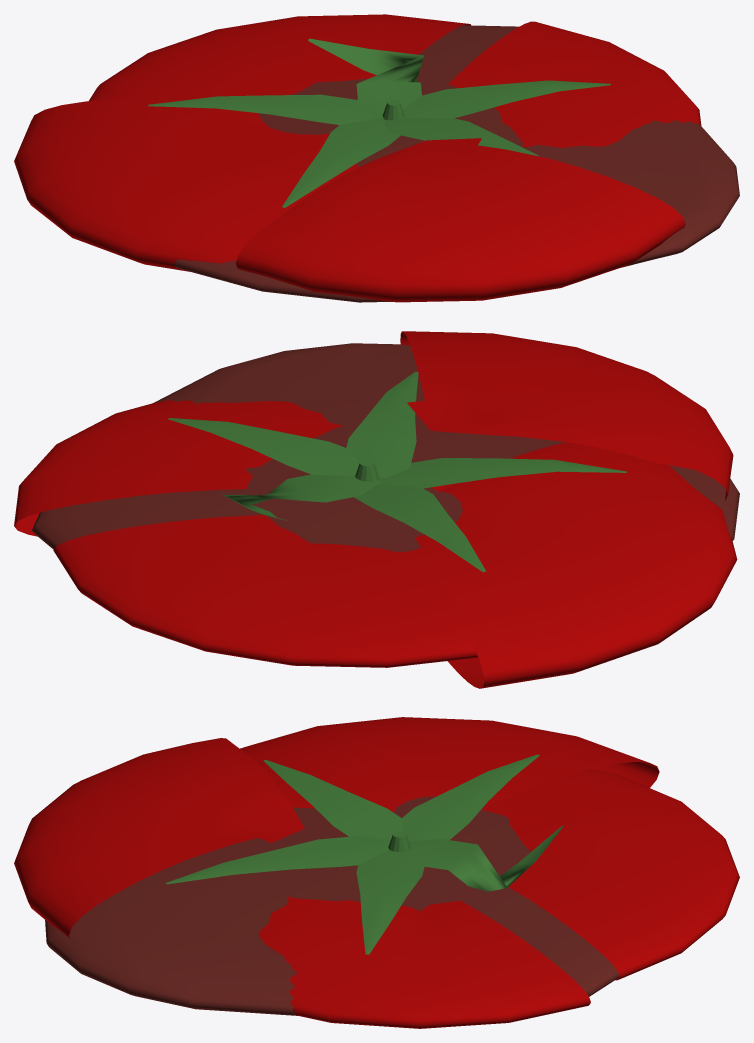
File: CrushedTomato.fbx
3 renders of one model, top to bottom at view 1: azimuth 30°, elevation 25°; view 2: azimuth 150°, elevation 25°; view 3: azimuth 270°, elevation 25°, orthographic. The views are drawn at different scales.
Visible parts, largest first — view 1: TomatoGuts1, Stem2; view 2: TomatoGuts1, Stem2; view 3: TomatoGuts1, Stem2.
Boxes of the visible parts, x1=… form: TomatoGuts1: x1=14, y1=14, x2=739, y2=302; Stem2: x1=148, y1=38, x2=610, y2=207; TomatoGuts1: x1=14, y1=331, x2=739, y2=688; Stem2: x1=168, y1=371, x2=626, y2=572; TomatoGuts1: x1=14, y1=717, x2=739, y2=1028; Stem2: x1=166, y1=754, x2=563, y2=954.
Bounding box in the file's own units: 2.47 × 0.3629 × 2.49.
